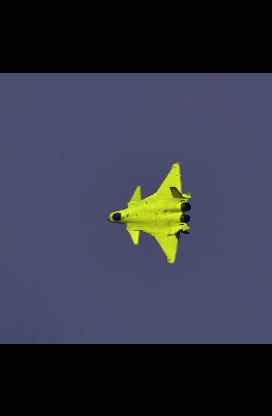F4: (105, 161, 191, 263)
